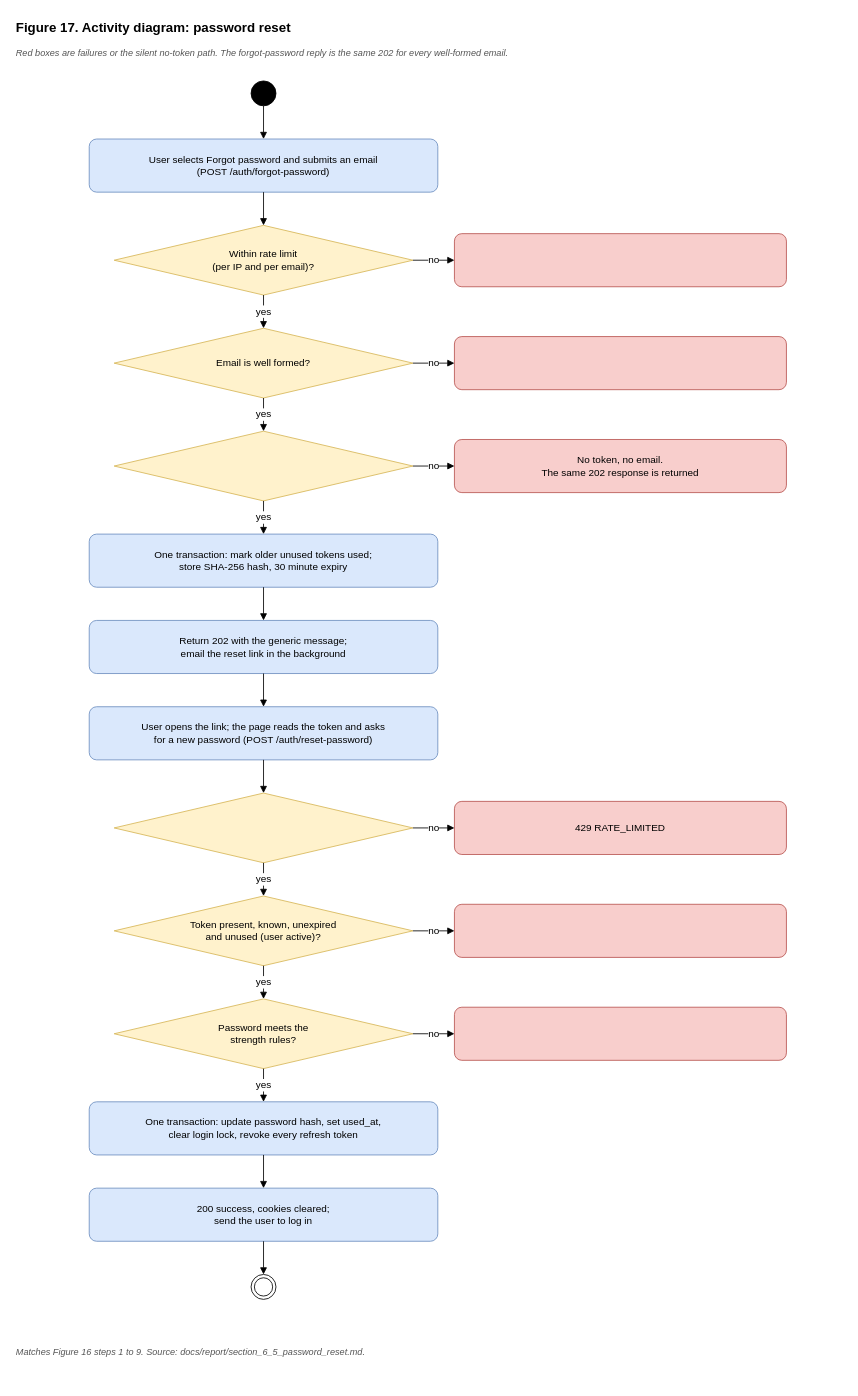
The diagram is 858 pixels wide and 1396 high, and some of its shapes have lost their labels. Each missing label, with the box of its shape:
400 INVALID_OR_EXPIRED_RESET_TOKEN Same message for every cause: (454, 903, 786, 957)
422 VALIDATION_ERROR: (454, 336, 786, 390)
422 VALIDATION_ERROR The token is not spent: (454, 1006, 786, 1060)
429 RATE_LIMITED No token created: (454, 233, 786, 287)
Active local account with a password?: (113, 430, 413, 501)
Within rate limit (per IP)?: (113, 792, 413, 863)
